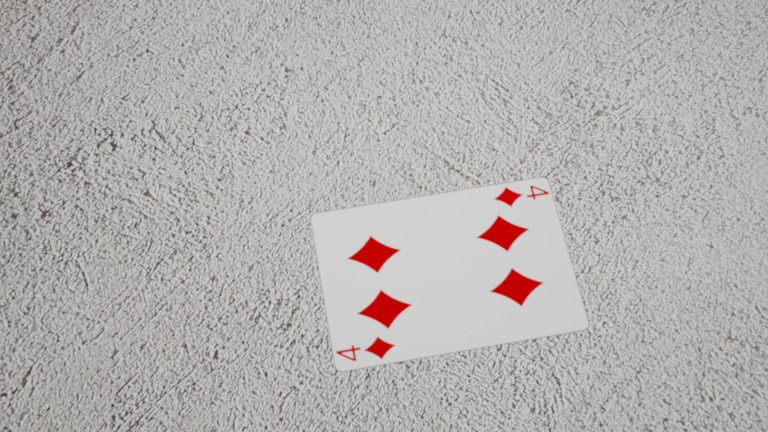4_of_diamonds: (134, 132, 160, 148), (196, 71, 220, 86)
